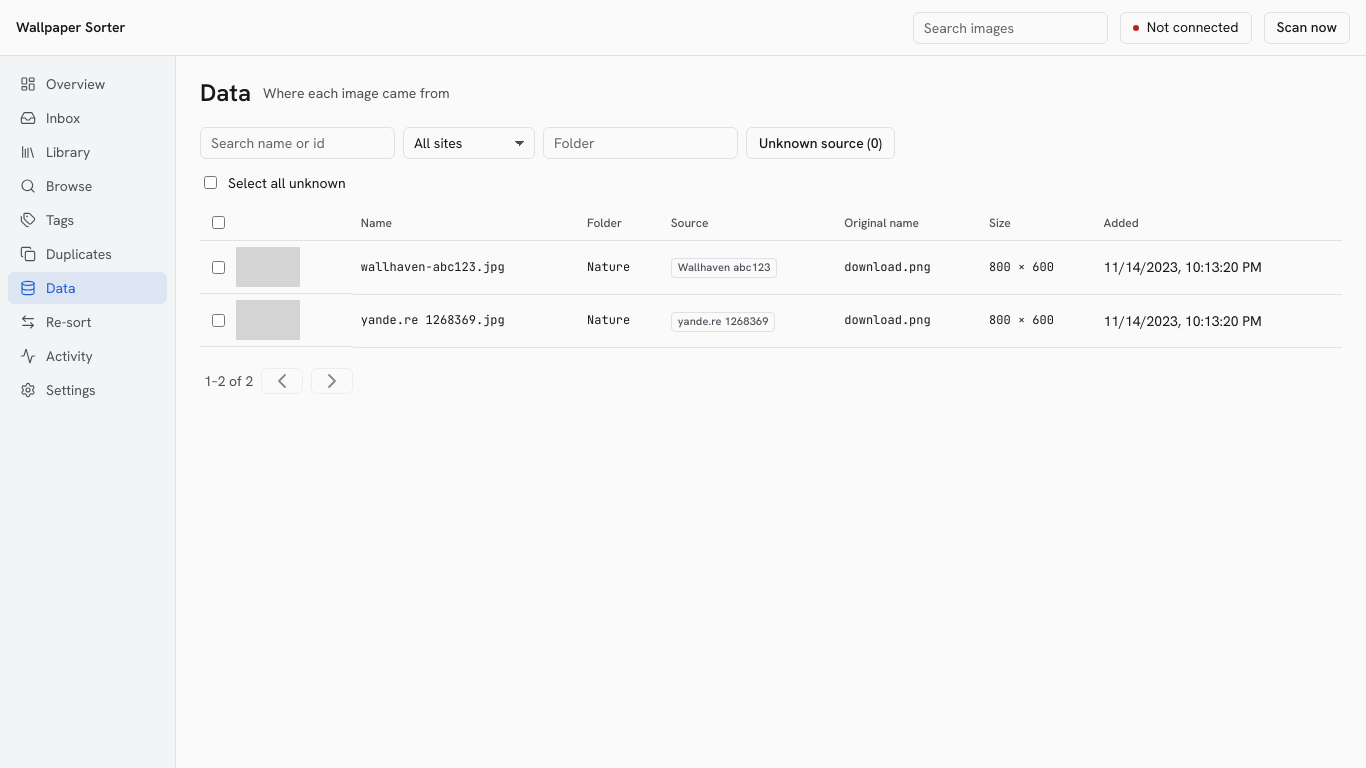
Test: bulk looks up selected supported sources and offers undo for Inbox sorting
Later steps or results of the test are not shown.
Click the checkbox named "Select wallhaven-abc123.jpg".
click(218, 267)  # box [212,261,225,274]
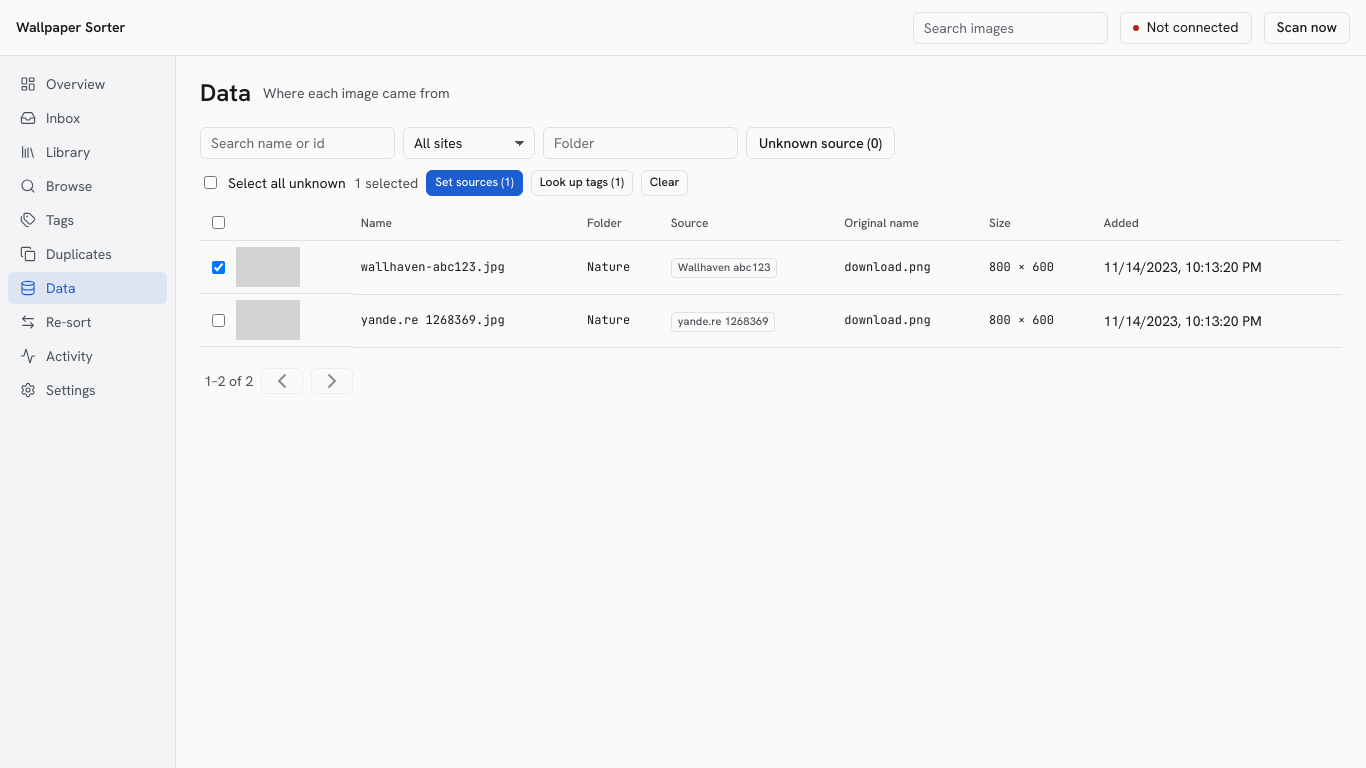
Click the checkbox named "Select yande.re 1268369.jpg".
click(218, 320)  # box [212,314,225,327]
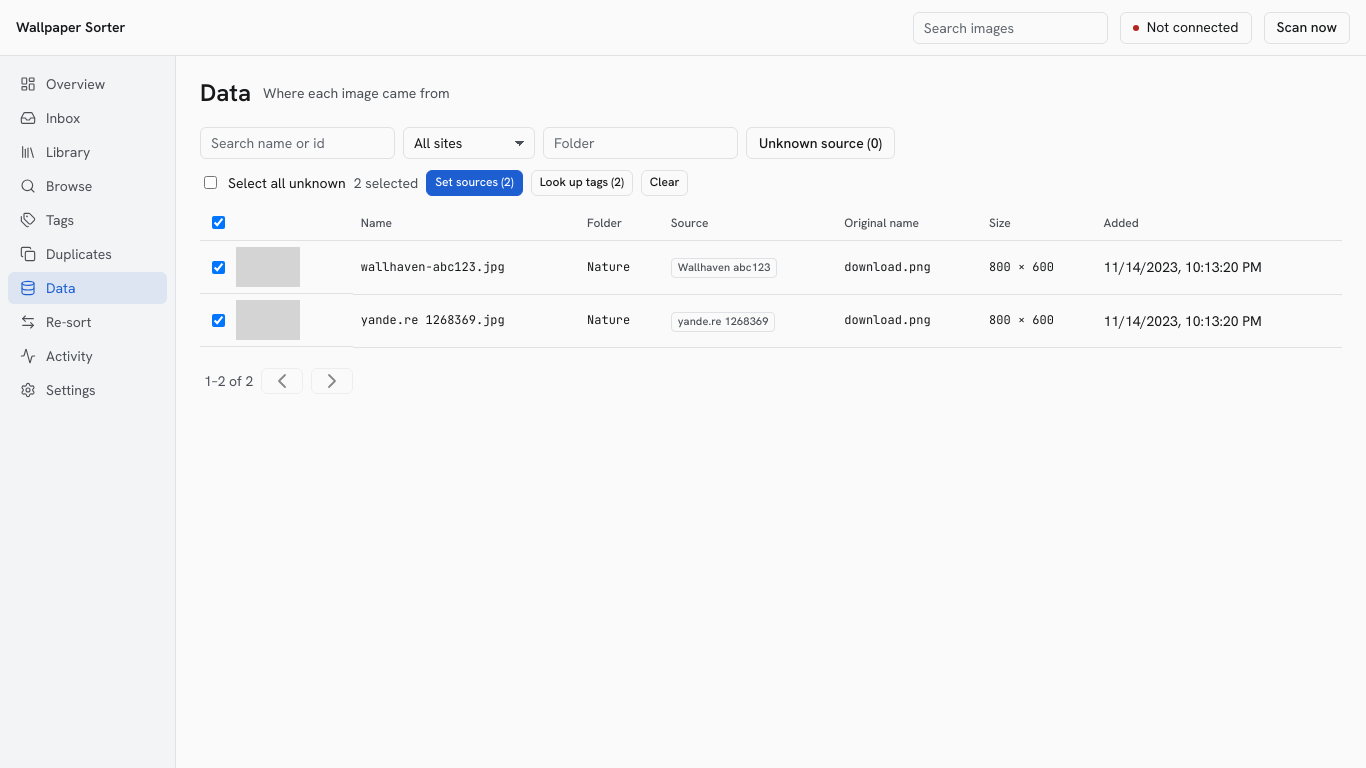
Click the button "Look up tags (2)".
click(582, 183)  # box [531,170,633,196]
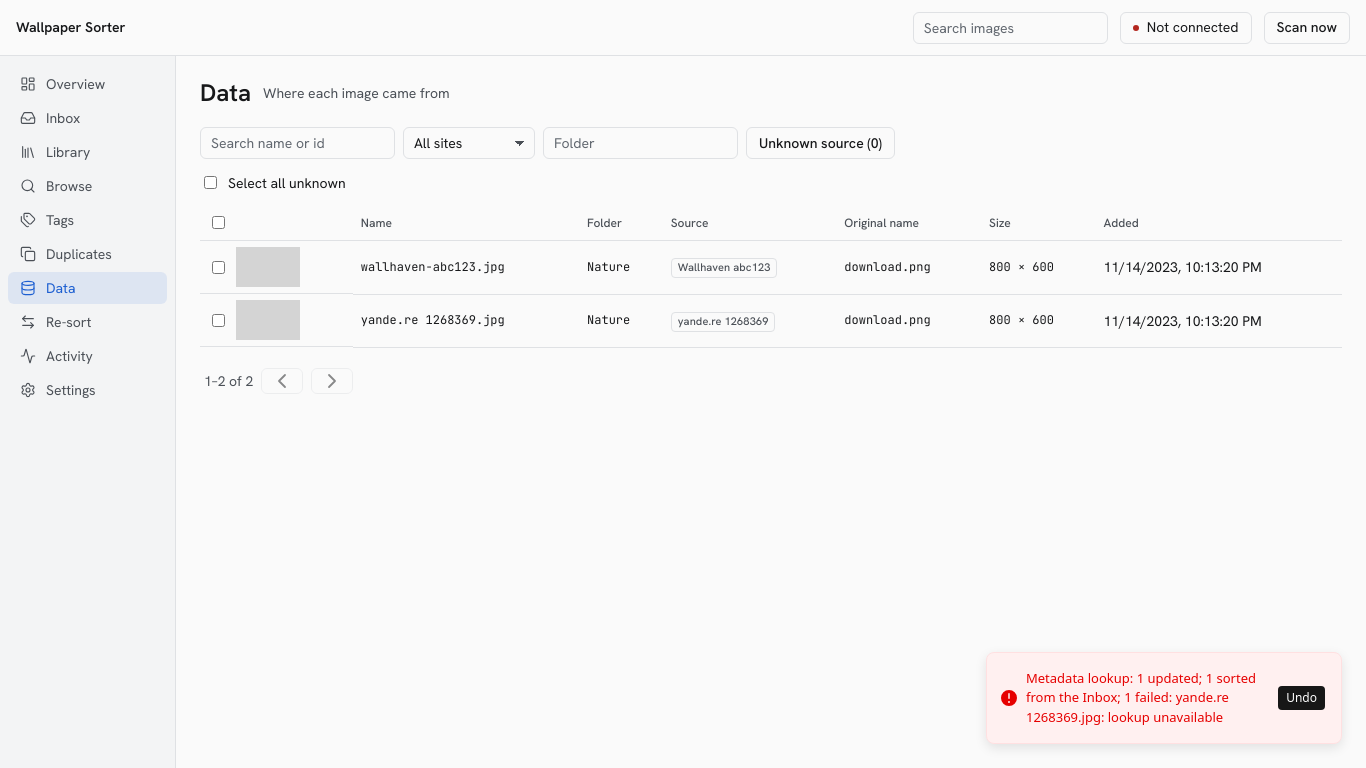
Expected: the text "Metadata lookup: 1 updated; 1 sorted from the Inbox; 1 failed: yande.re 1268369.jpg: lookup unavailable" is shown, [1026,668,1256,726]
